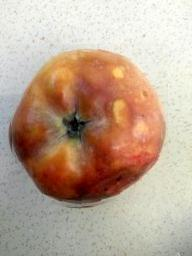Apple Rotten: (9, 45, 168, 211)
